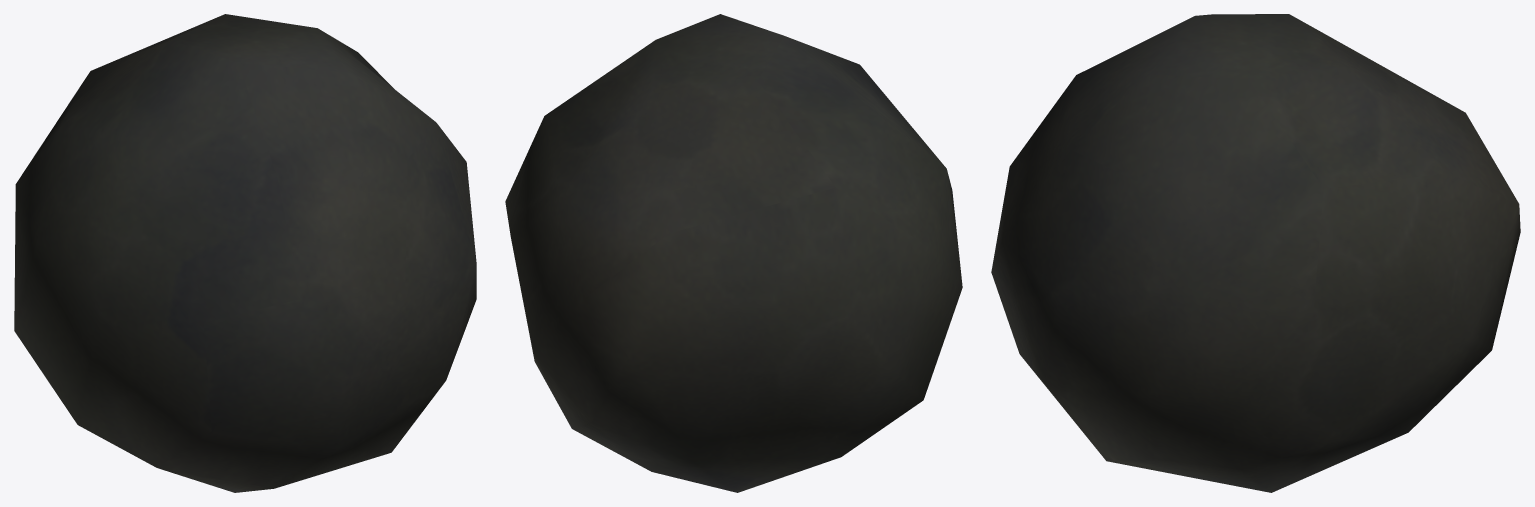
The model's file is Shotgun_Pellet.glb.
3 renders of one model, left to right at view 1: azimuth 30°, elevation 25°; view 2: azimuth 150°, elevation 25°; view 3: azimuth 270°, elevation 25°, orthographic. The views are drawn at different scales.
Bounding box in the file's own units: 0.835 × 0.821 × 0.904.
1 material, 1 textured.
